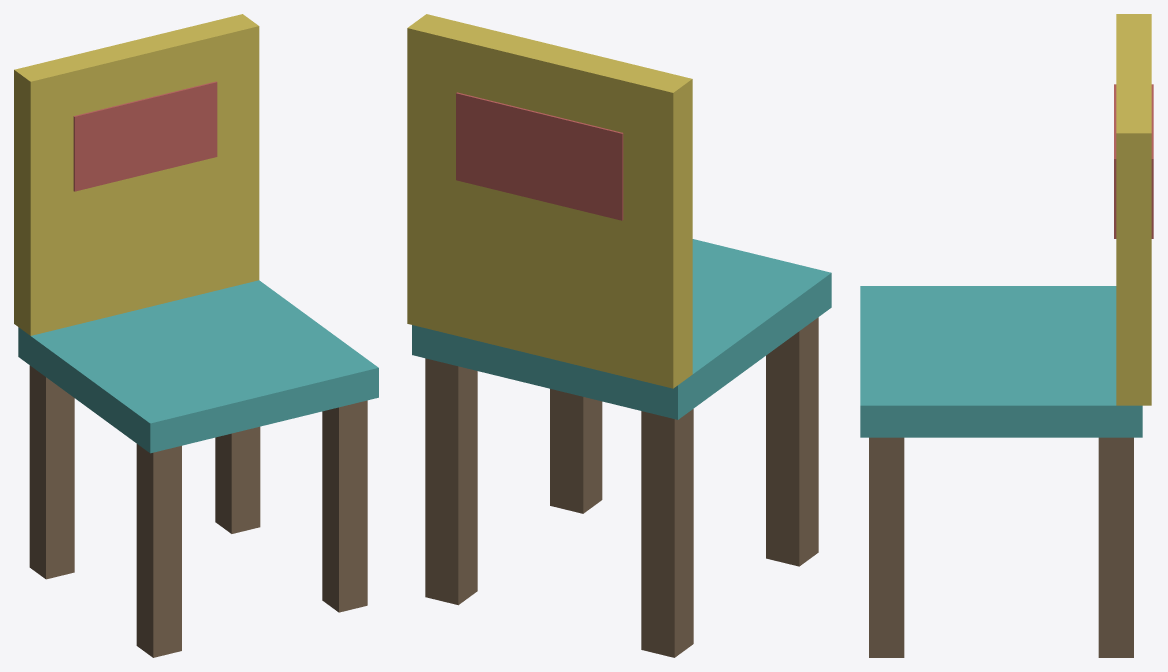
The model's file is kids_cadeira.glb.
3 views of the same model, side by side, from view 1: azimuth 30°, elevation 25°; view 2: azimuth 150°, elevation 25°; view 3: azimuth 270°, elevation 25° (orthographic). The views are drawn at different scales.
Parts seen in each view (by area): view 1: KIDS_CADEIRA_v01; view 2: KIDS_CADEIRA_v01; view 3: KIDS_CADEIRA_v01.
Boxes of the visible parts, left/top/right/bottom form: KIDS_CADEIRA_v01: left=14, top=14, right=378, bottom=657; KIDS_CADEIRA_v01: left=407, top=14, right=831, bottom=657; KIDS_CADEIRA_v01: left=860, top=14, right=1153, bottom=657.
Size of the model in its own units: 0.32 by 0.66 by 0.3325.
